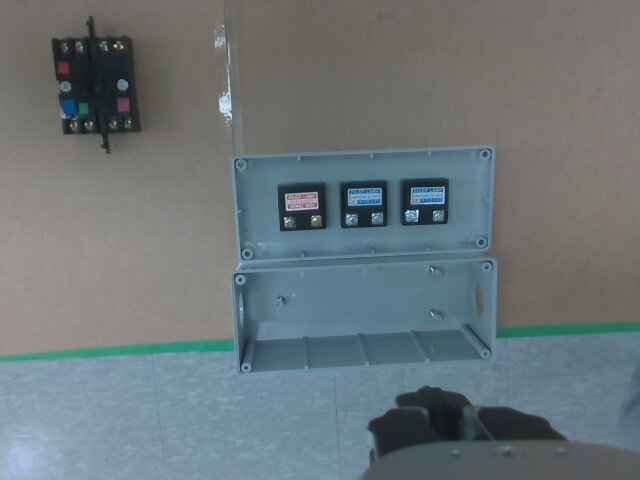L1 1: (283, 217, 296, 228)
L1 2: (310, 215, 322, 227)
L2 1: (345, 213, 358, 226)
L2 2: (372, 213, 384, 224)
L3 1: (405, 211, 418, 222)
L3 2: (432, 210, 444, 221)
